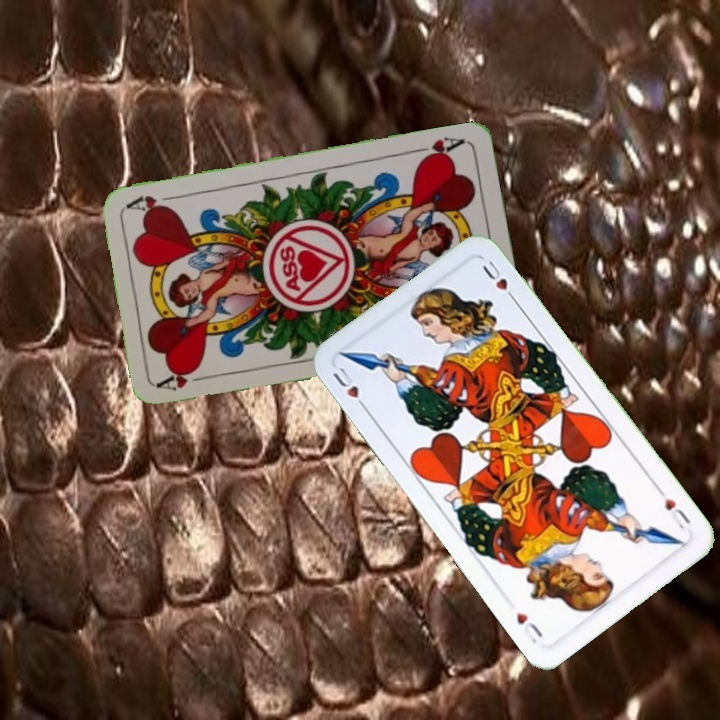HA: (155, 362, 214, 394), (410, 132, 468, 164)
HU: (328, 363, 371, 414), (653, 484, 693, 532)
